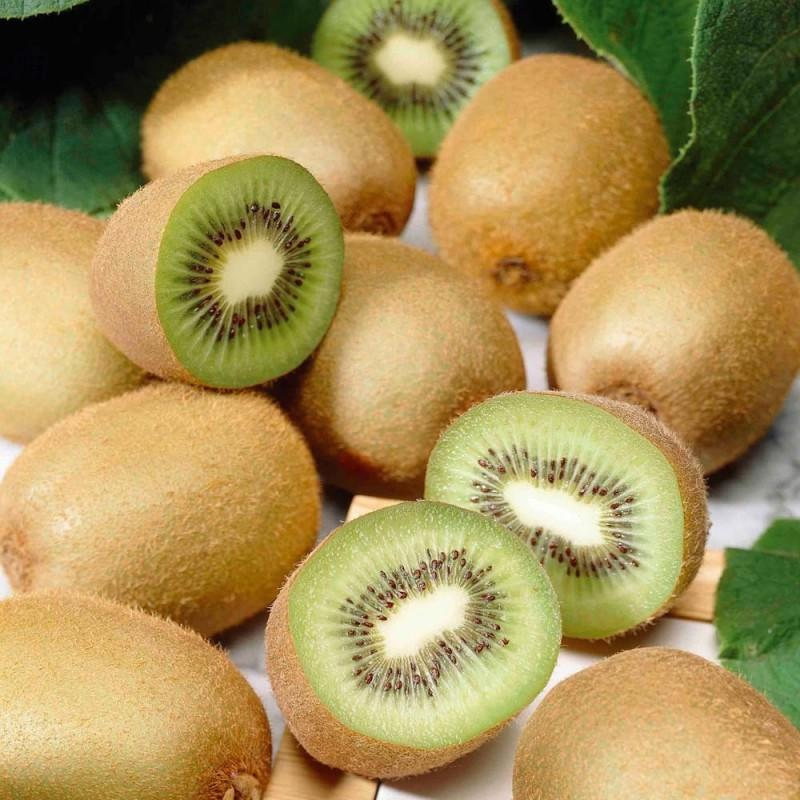kiwi: (256, 492, 574, 797), (0, 382, 333, 620), (421, 383, 722, 640), (89, 142, 350, 414), (426, 49, 674, 310), (0, 591, 274, 800), (534, 196, 800, 387)
